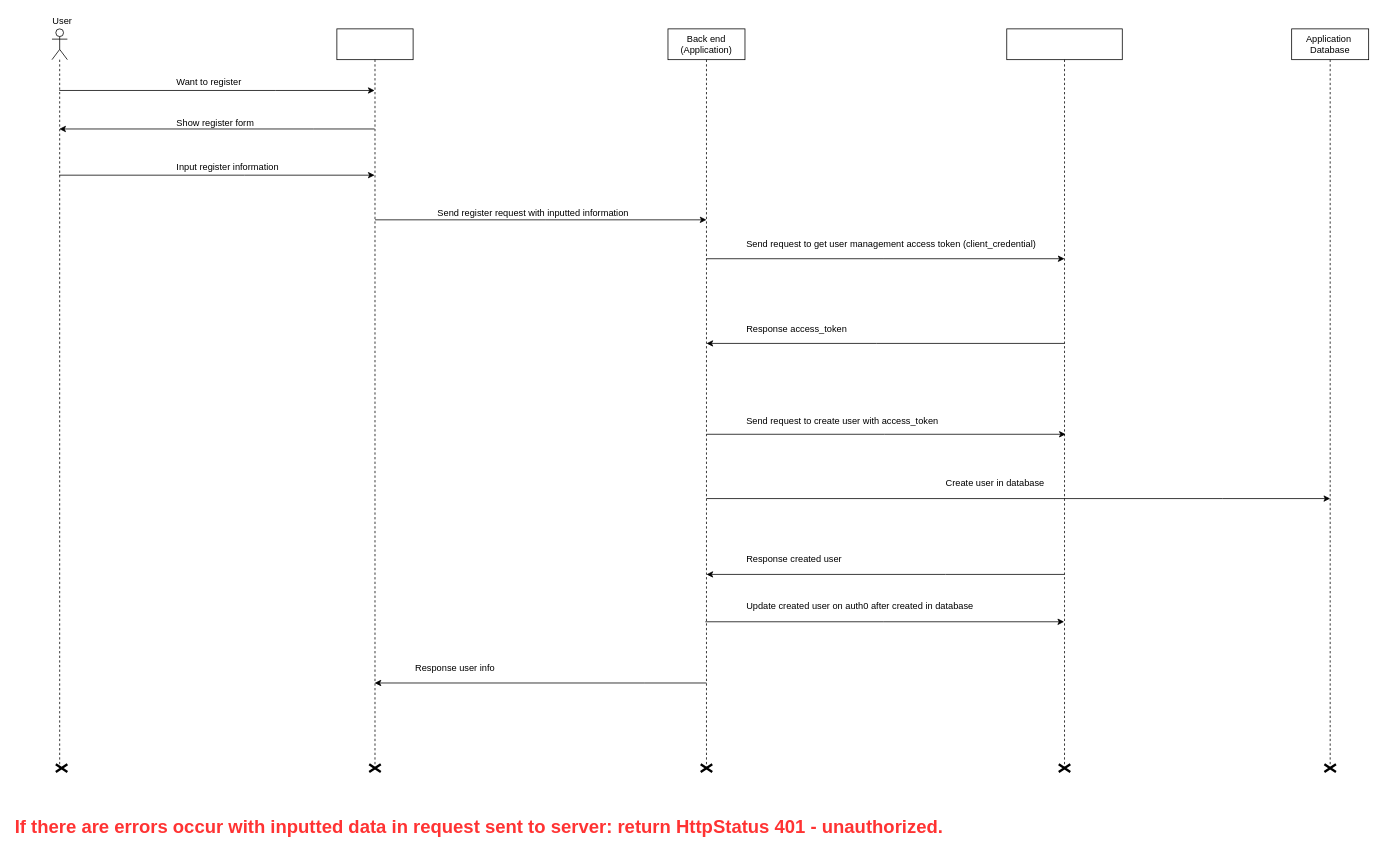
The diagram is 1382 pixels wide and 852 high, and some of its shapes have lost their labels. The box of each missing label's shape, as (x1, y1, x2, y2) in pixels:
Authentication Server and Resource Server (Auth0): (1006, 28, 1122, 768)
Front end (Browser): (336, 28, 413, 768)
